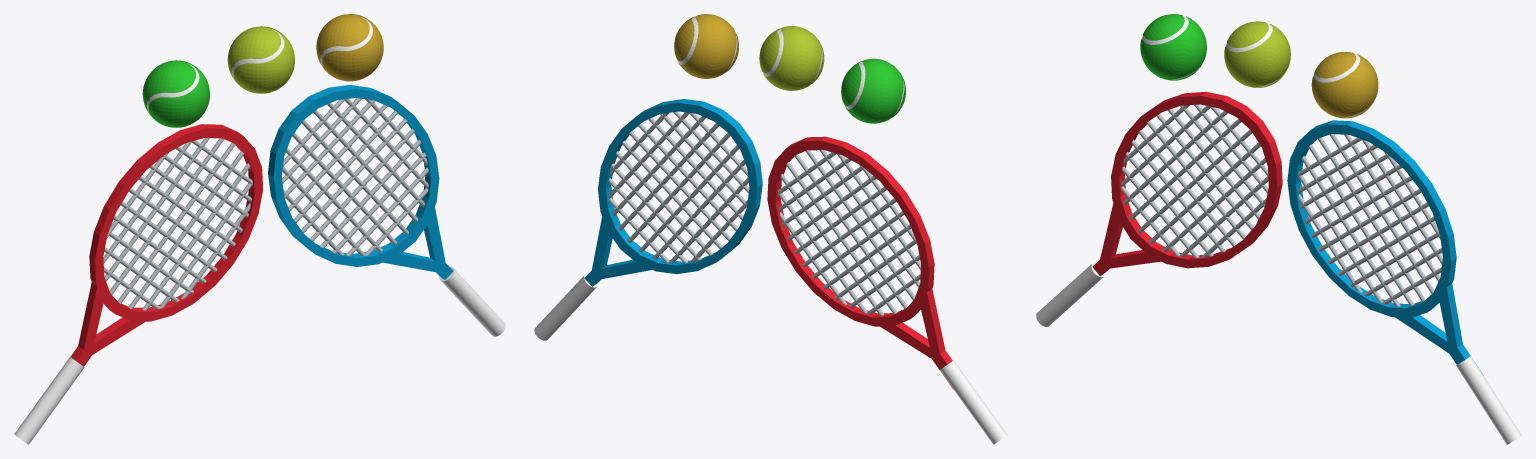
The model's file is tinker.obj.
The picture shows the model from 3 angles, left to right: view 1: azimuth 30°, elevation 25°; view 2: azimuth 150°, elevation 25°; view 3: azimuth 330°, elevation 25°; orthographic projection. The views are drawn at different scales.
Visible parts, largest first — view 1: obj_2, obj_25, obj_28, obj_0, obj_26, obj_7, obj_6, obj_8, obj_9, obj_11, obj_10, obj_12 (+8 smaller); view 2: obj_2, obj_25, obj_0, obj_26, obj_28, obj_7, obj_6, obj_8, obj_9, obj_11, obj_10, obj_12 (+8 smaller); view 3: obj_2, obj_25, obj_28, obj_0, obj_26, obj_7, obj_6, obj_8, obj_9, obj_11, obj_14, obj_19 (+11 smaller).
Boxes of the visible parts, x1=… form: obj_2: x1=268, y1=85, x2=505, y2=336; obj_25: x1=89, y1=124, x2=263, y2=321; obj_28: x1=316, y1=14, x2=383, y2=81; obj_0: x1=142, y1=60, x2=209, y2=127; obj_26: x1=227, y1=26, x2=294, y2=93; obj_7: x1=70, y1=282, x2=145, y2=366; obj_6: x1=14, y1=357, x2=84, y2=444; obj_8: x1=118, y1=143, x2=235, y2=304; obj_9: x1=128, y1=151, x2=244, y2=309; obj_11: x1=109, y1=138, x2=223, y2=294; obj_10: x1=142, y1=163, x2=250, y2=310; obj_12: x1=104, y1=138, x2=209, y2=281; obj_2: x1=534, y1=99, x2=762, y2=340; obj_25: x1=767, y1=136, x2=934, y2=326; obj_0: x1=841, y1=58, x2=905, y2=123; obj_26: x1=759, y1=26, x2=824, y2=90; obj_28: x1=674, y1=14, x2=738, y2=78; obj_7: x1=880, y1=289, x2=952, y2=388; obj_6: x1=939, y1=360, x2=1007, y2=444; obj_8: x1=794, y1=154, x2=907, y2=309; obj_9: x1=786, y1=162, x2=897, y2=314; obj_11: x1=805, y1=150, x2=915, y2=300; obj_10: x1=780, y1=173, x2=884, y2=315; obj_12: x1=819, y1=150, x2=920, y2=287; obj_2: x1=1287, y1=120, x2=1521, y2=444; obj_25: x1=1111, y1=91, x2=1282, y2=268; obj_28: x1=1311, y1=51, x2=1378, y2=118; obj_0: x1=1140, y1=14, x2=1206, y2=80; obj_26: x1=1224, y1=21, x2=1290, y2=87; obj_7: x1=1092, y1=202, x2=1162, y2=276; obj_6: x1=1036, y1=262, x2=1105, y2=326; obj_8: x1=1138, y1=129, x2=1252, y2=233; obj_9: x1=1149, y1=143, x2=1260, y2=243; obj_11: x1=1129, y1=119, x2=1240, y2=220; obj_14: x1=1146, y1=121, x2=1245, y2=239; obj_19: x1=1138, y1=129, x2=1236, y2=246.
Bounding box in the file's own units: 501 × 366 × 59.82.
